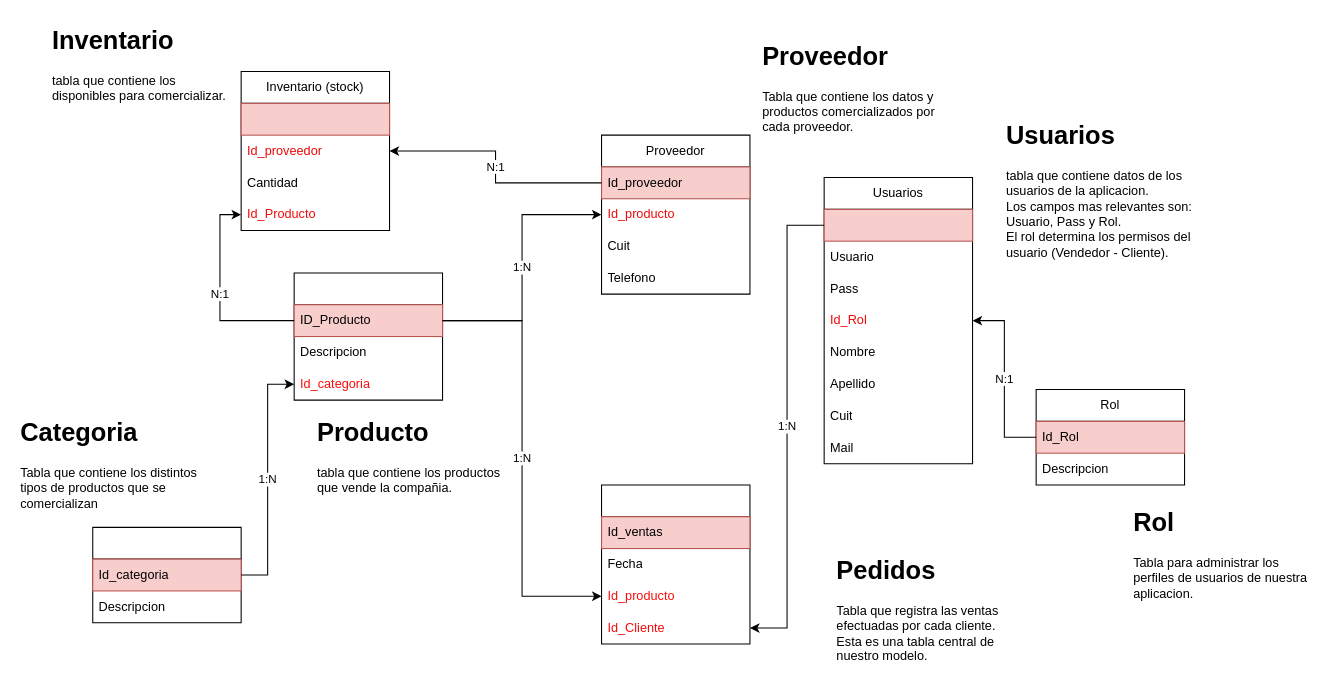
This 1340x696 diagram has some shape labels left out. Here are the shapes that lost their labels. From the top down, the box of each, then its label:
(240, 102, 390, 135): Id_Inventario
(823, 208, 973, 241): Id_Usuario
(293, 272, 443, 400): Productos
(92, 526, 241, 623): Categorias
(600, 484, 750, 644): Pedidos
